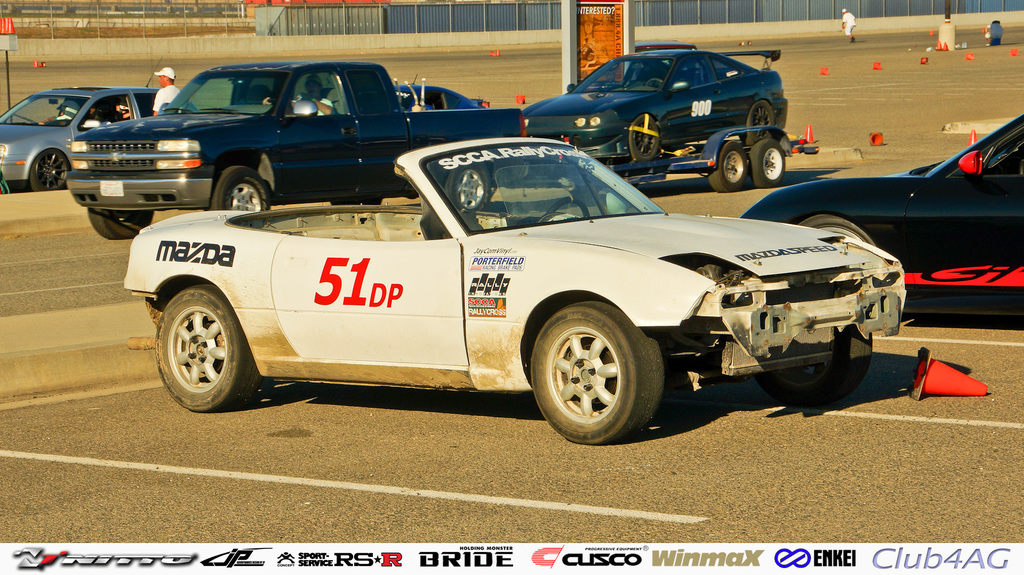car: (105, 120, 920, 452), (54, 25, 542, 256), (736, 100, 1024, 325), (516, 33, 805, 175), (1, 70, 192, 193), (383, 71, 498, 126)
